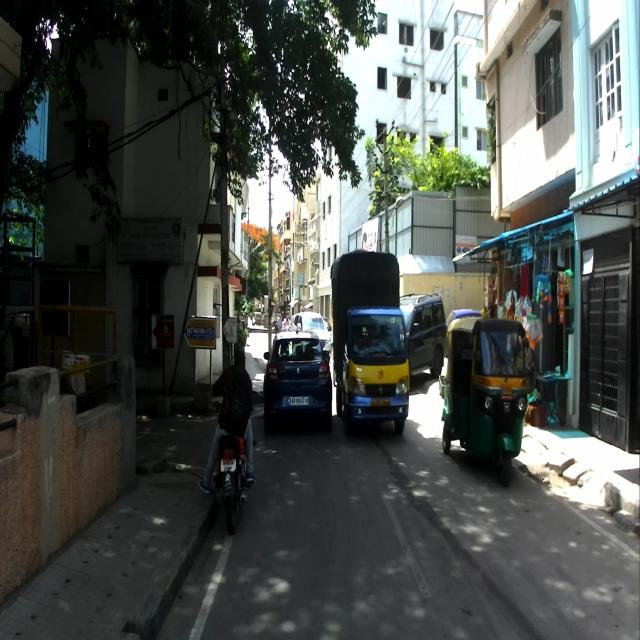autorickshaw: (439, 314, 528, 488)
car: (264, 329, 332, 437)
motorcycle: (209, 389, 261, 537)
truck: (330, 248, 410, 433)
